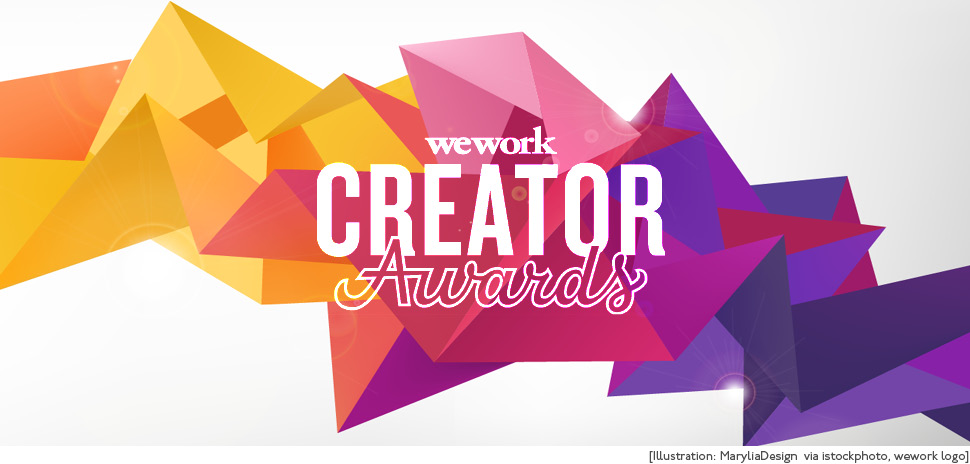wework: (423, 124, 559, 159)
